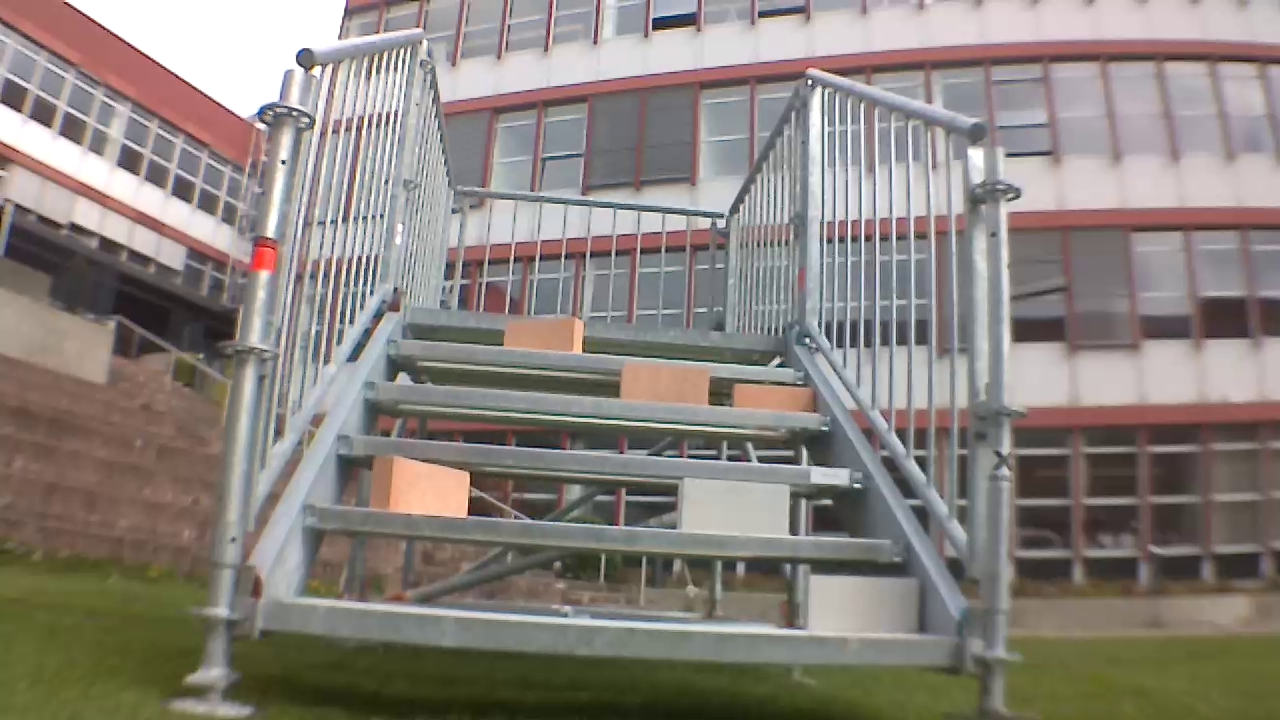brick: (806, 574, 916, 633), (371, 454, 468, 517), (677, 478, 786, 533), (621, 364, 709, 404), (503, 317, 582, 352), (731, 383, 812, 411)
edge: (262, 599, 956, 668), (302, 504, 906, 562), (334, 432, 863, 488), (367, 379, 831, 434), (390, 339, 803, 380), (407, 306, 780, 351)
stairs: (167, 29, 1030, 718)
steps: (252, 300, 963, 685)
